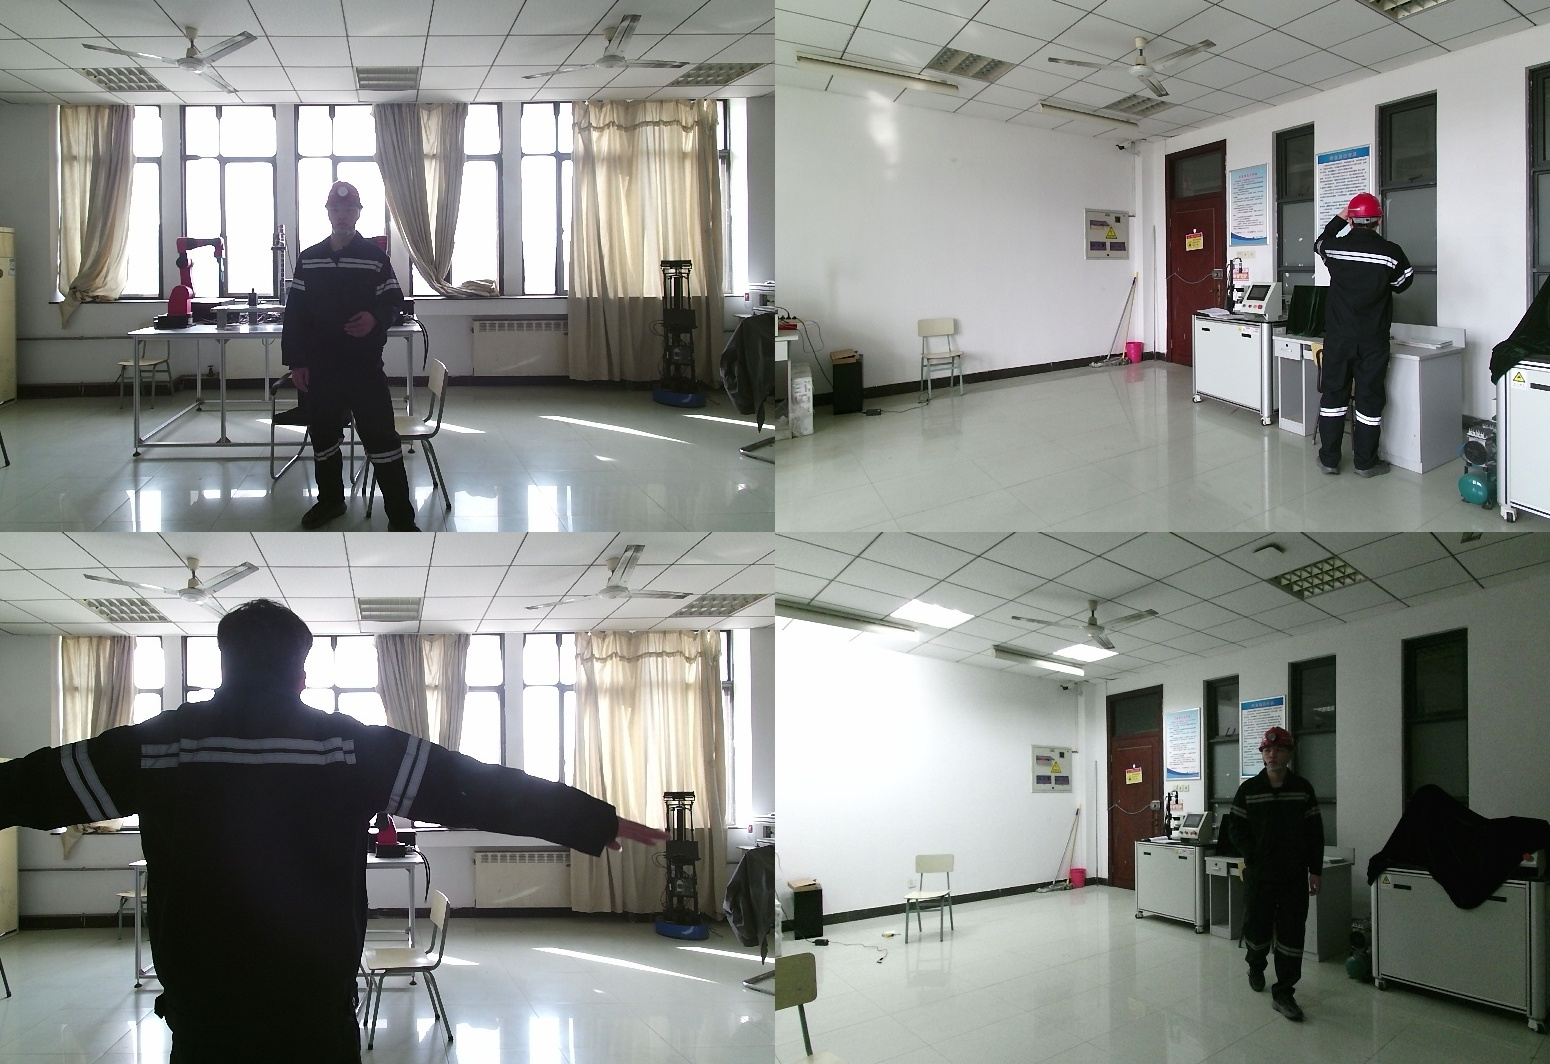person: (1, 601, 672, 1064), (283, 182, 417, 532), (1315, 192, 1440, 479), (1219, 728, 1338, 1017)
